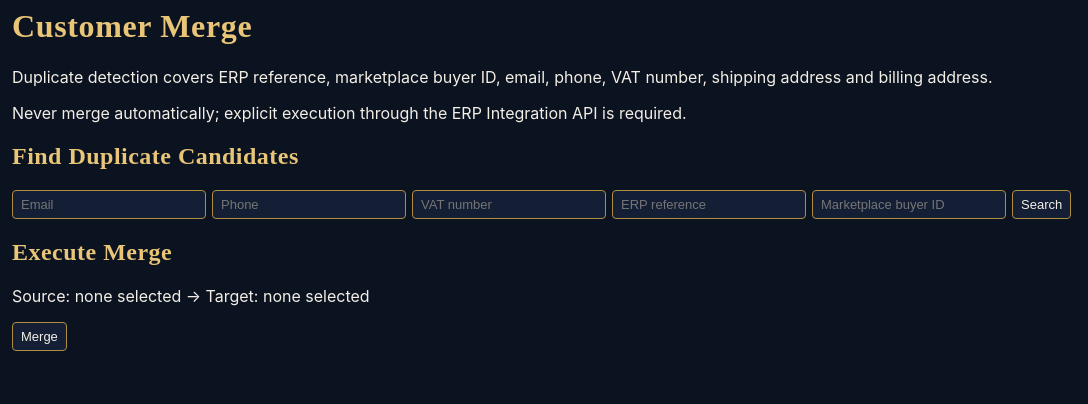
Test case: Customer Merge page (Sprint 61B) › shows a graceful error when the search itself fails
The width and height of the screenshot is (1088, 404).
Click the button "Search" at (1042, 204), box top-left (1012, 190), bottom-right (1071, 219)
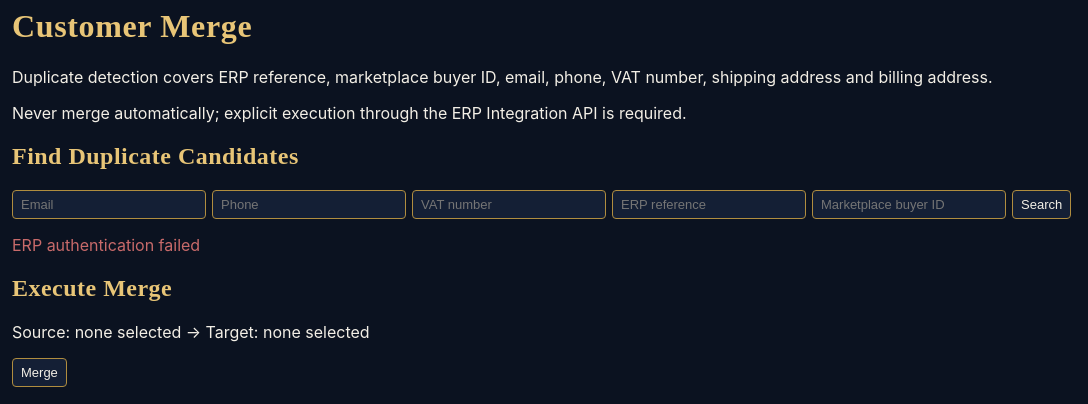
Expected: the text "ERP authentication failed" is shown, top-left (12, 235), bottom-right (200, 255)
